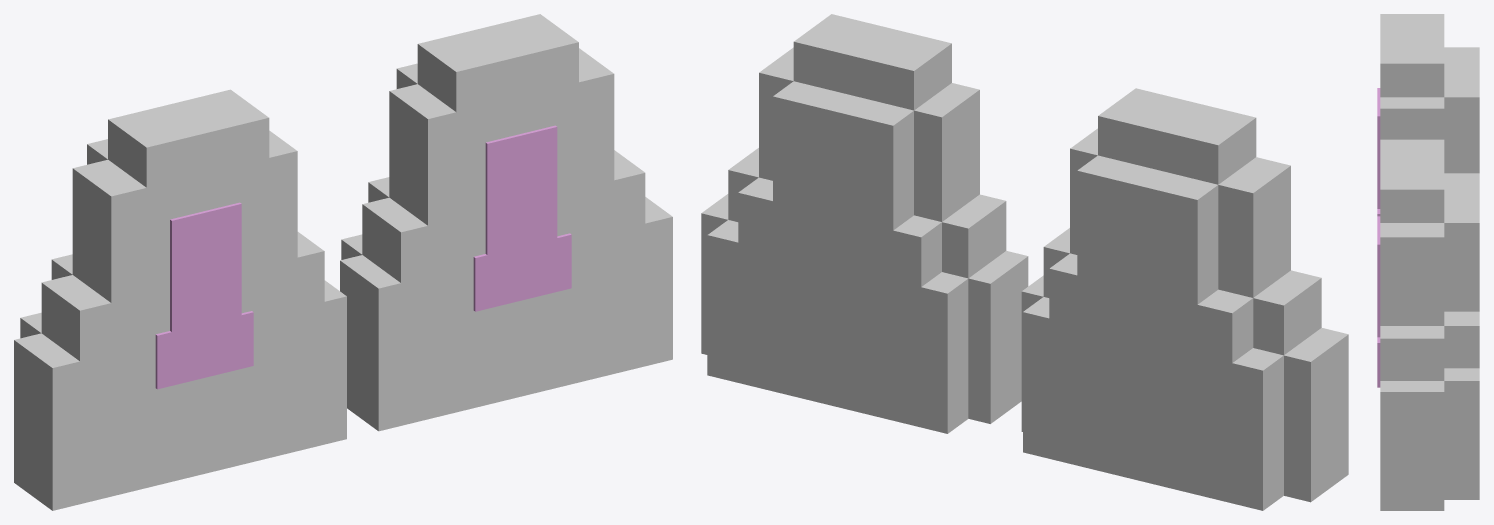
File: cat_ears.fbx
3 renders of one model, left to right at view 1: azimuth 30°, elevation 25°; view 2: azimuth 150°, elevation 25°; view 3: azimuth 270°, elevation 25°, orthographic. The views are drawn at different scales.
Parts seen in each view (by area): view 1: rEar, lEar; view 2: rEar, lEar; view 3: lEar, rEar.
Boxes of the visible parts, bbox=[...] form: rEar: bbox=[14, 89, 346, 510]; lEar: bbox=[340, 14, 672, 431]; rEar: bbox=[1021, 88, 1348, 510]; lEar: bbox=[701, 14, 1028, 433]; lEar: bbox=[1377, 139, 1479, 510]; rEar: bbox=[1377, 14, 1479, 216].
Bounding box in the file's own units: 47.46 × 24.89 × 8.15.
